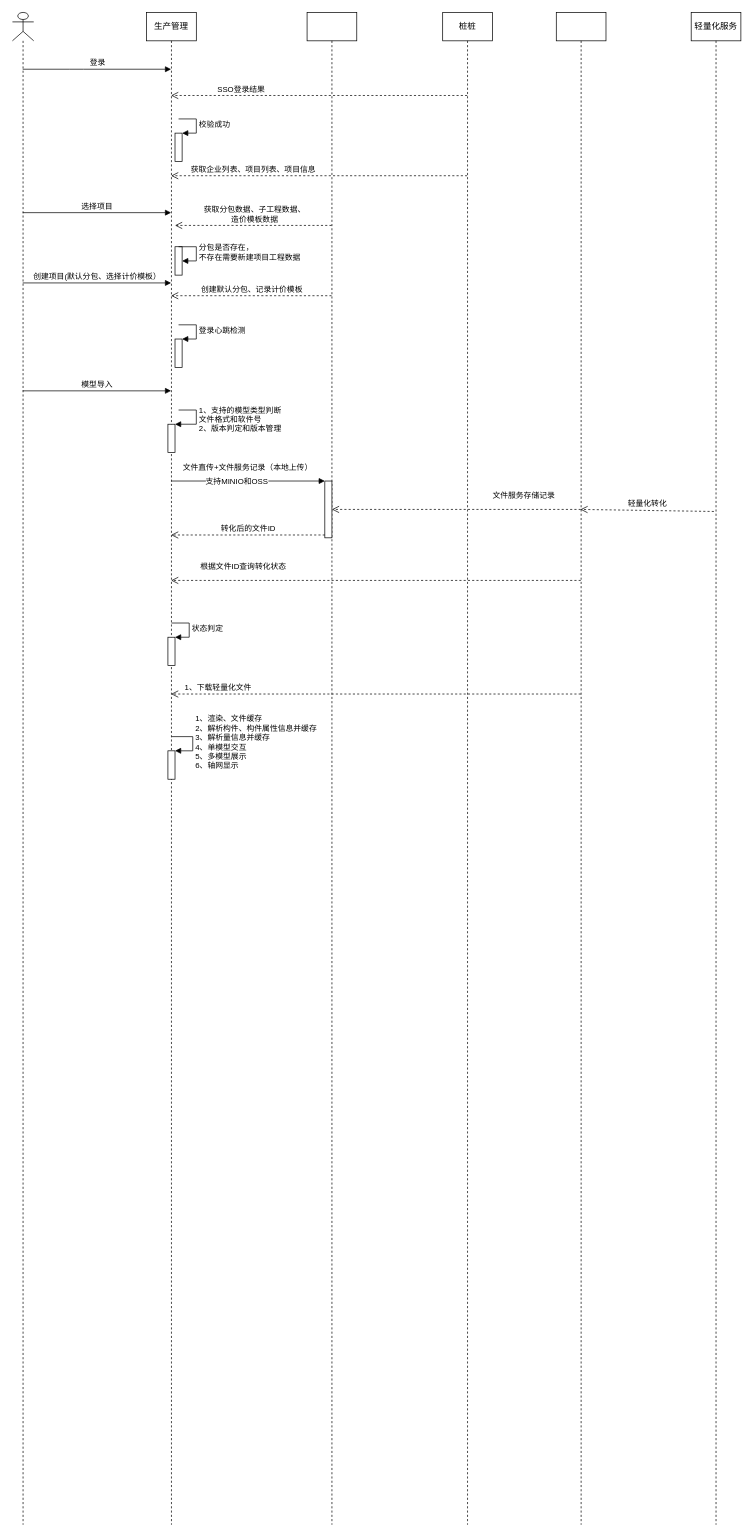
Image size: 753x1537. Some labels were removed from this diagram. The box of each missing label's shape, as (x1, y1, x2, y2) in pixels:
BIM云平台: (306, 12, 357, 1525)
文件服务: (556, 12, 606, 1525)
